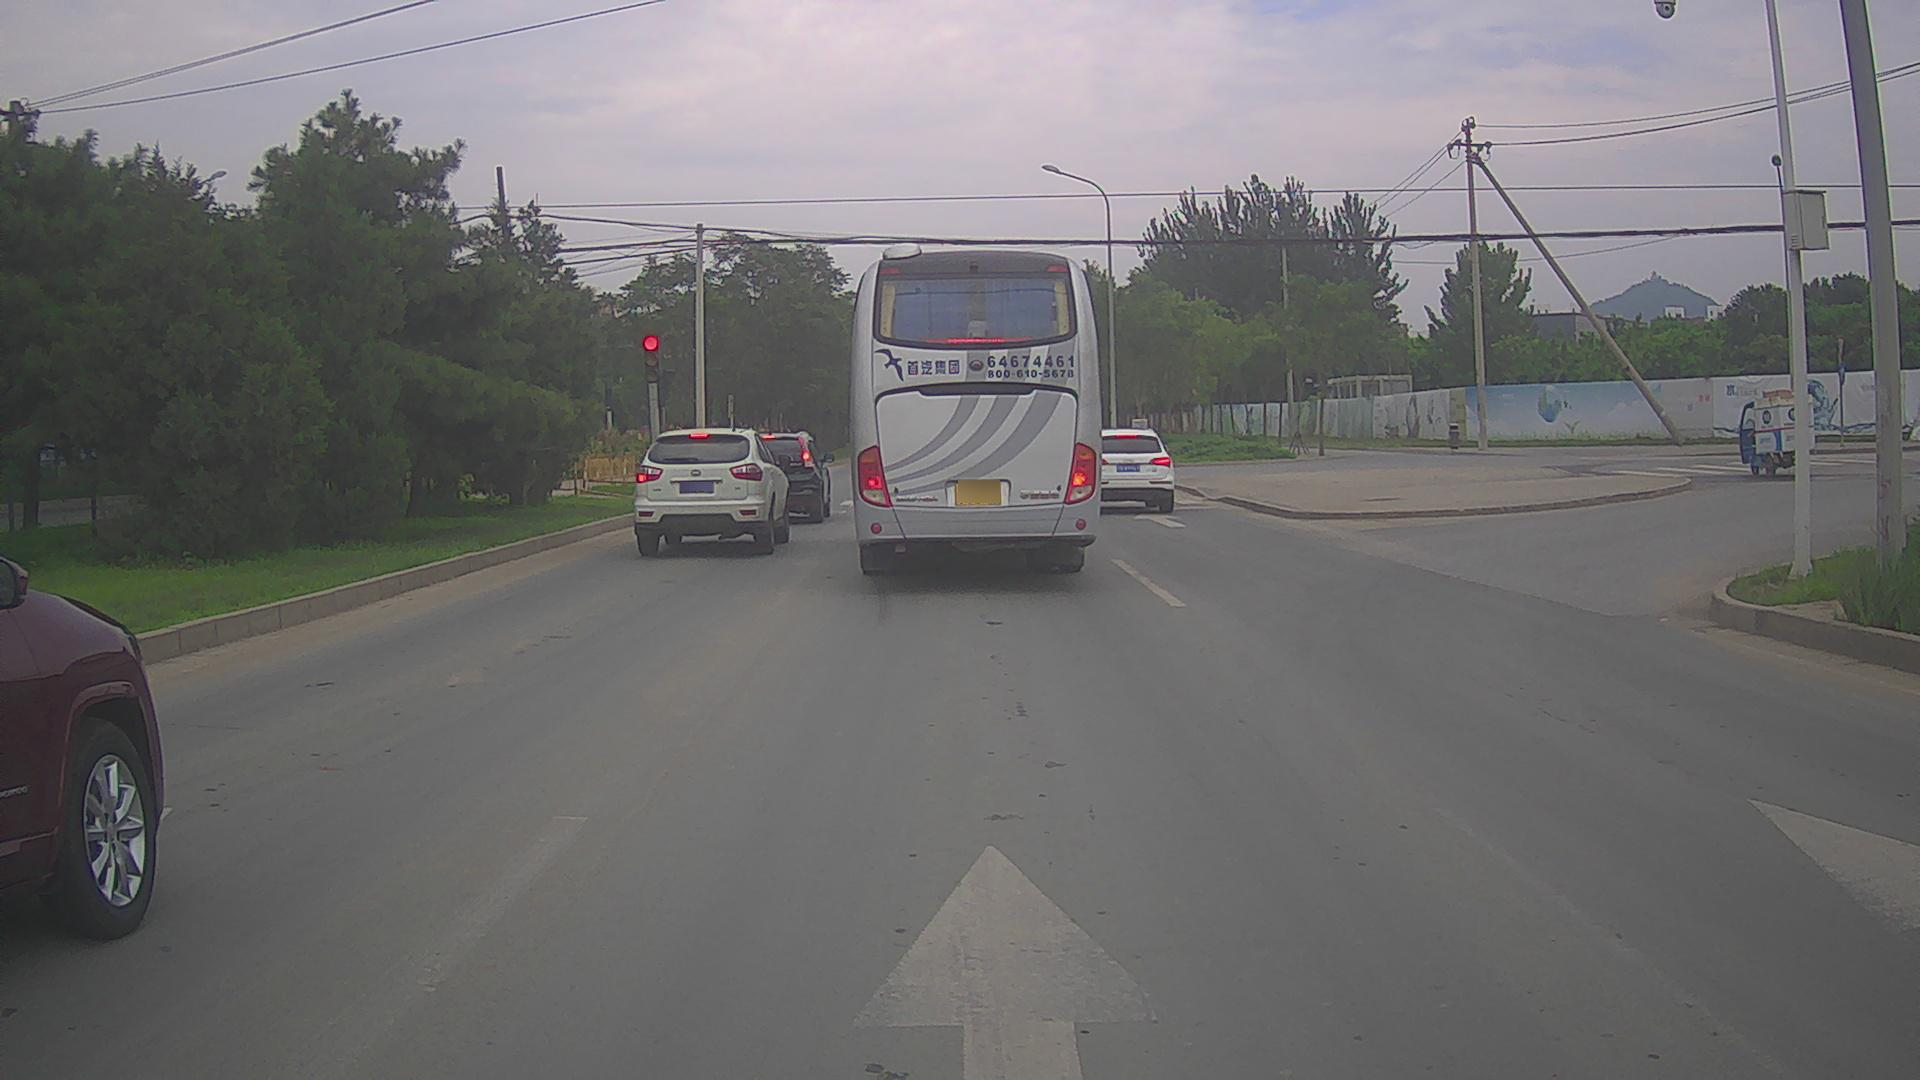bus: (848, 243, 1101, 576)
car: (0, 555, 164, 939), (634, 427, 791, 556), (723, 430, 836, 524), (1083, 427, 1175, 513)
tricyclelist: (1739, 401, 1807, 479)
